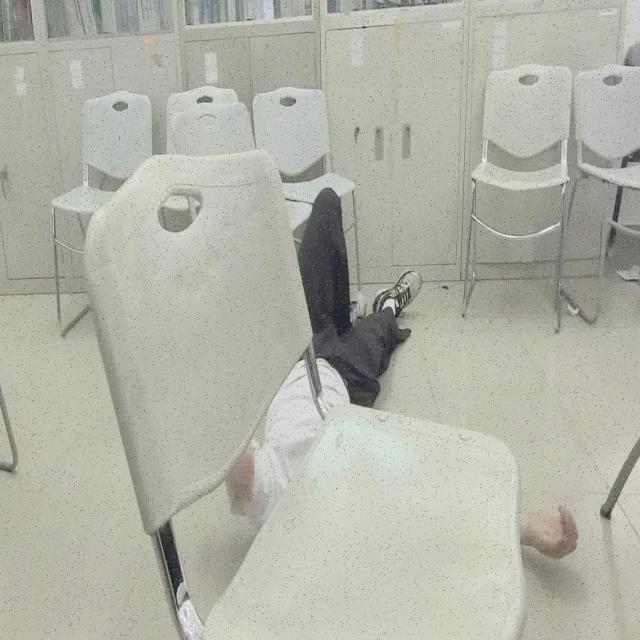fall: (220, 184, 578, 620)
